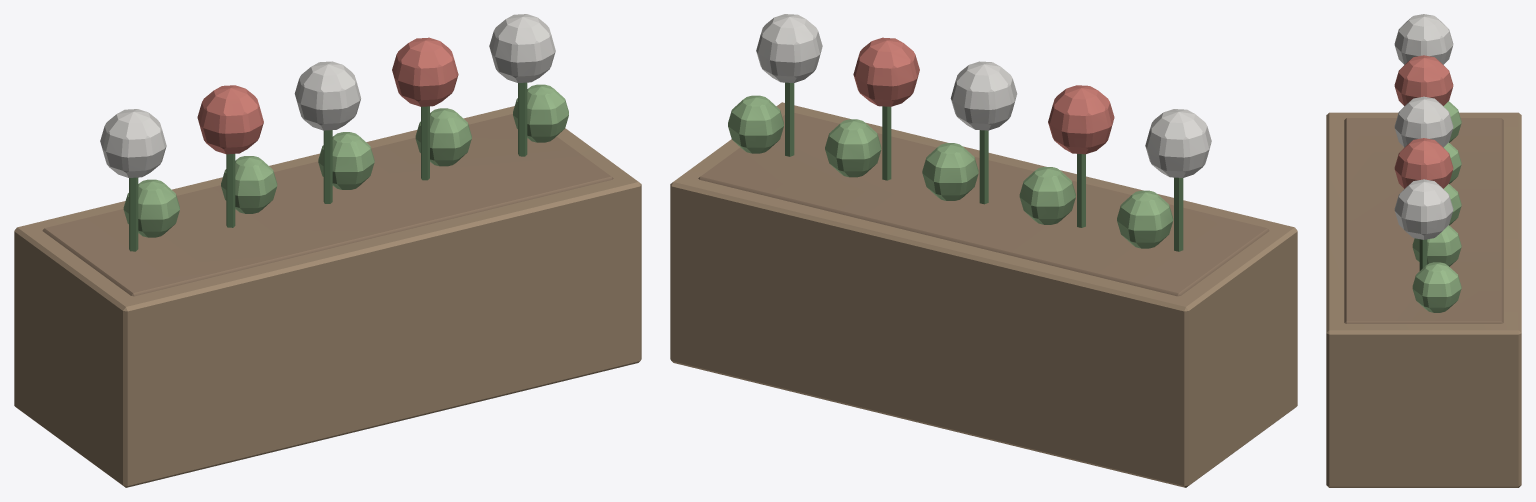
The model's file is furn_planter_box__walnut.glb.
3 views of the same model, side by side, from view 1: azimuth 30°, elevation 25°; view 2: azimuth 150°, elevation 25°; view 3: azimuth 270°, elevation 25° (orthographic). The views are drawn at different scales.
Size of the model in its own units: 1.2 by 0.71 by 0.45.
